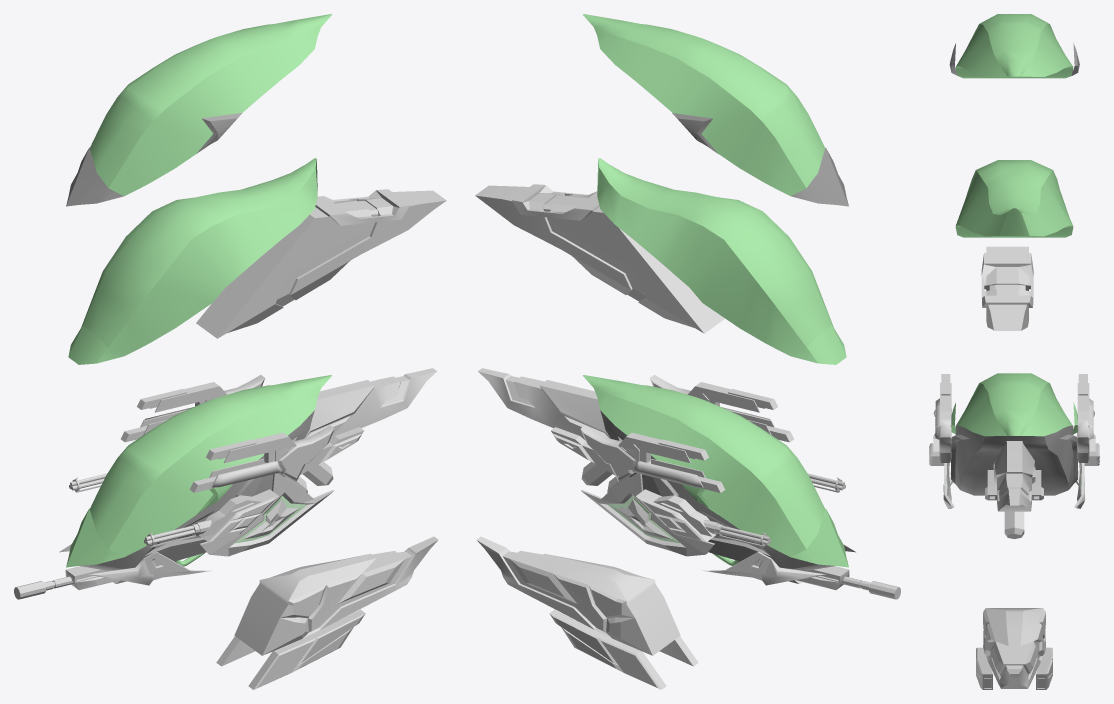
File: Player_all Guns.fbx
The picture shows the model from 3 angles, left to right: view 1: azimuth 30°, elevation 25°; view 2: azimuth 150°, elevation 25°; view 3: azimuth 270°, elevation 25°; orthographic projection.
Parts seen in each view (by area): view 1: Cabina_A, Cabina_B, polySurface3, Cola_1, Cola_3, Arma_E, Cola_2, Cola_3a, Arma_L, Cuerpo_Base, Medio_1, polySurface4 (+5 smaller); view 2: Cabina_A, Cabina_B, polySurface3, Cola_1, Cola_3, Arma_E, Cola_2, Cola_3a, Arma_L, Cuerpo_Base, Medio_1, polySurface4 (+5 smaller); view 3: Cabina_A, polySurface3, Cabina_B, Cuerpo_Base, Cola_3, Cola_1, Arma_E, Cola_2, Cola_3a, Arma_L, Medio_1, Cola_2a (+2 smaller).
Boxes of the visible parts, bbox=[...] form: Cabina_A: bbox=[68, 158, 317, 364]; Cabina_B: bbox=[66, 375, 331, 567]; polySurface3: bbox=[90, 14, 331, 196]; Cola_1: bbox=[196, 189, 446, 338]; Cola_3: bbox=[234, 536, 438, 655]; Arma_E: bbox=[121, 375, 334, 492]; Cola_2: bbox=[304, 368, 436, 439]; Cola_3a: bbox=[216, 609, 365, 689]; Arma_L: bbox=[69, 473, 278, 547]; Cuerpo_Base: bbox=[80, 410, 314, 570]; Medio_1: bbox=[209, 473, 334, 556]; polySurface4: bbox=[66, 113, 242, 206]; Cabina_A: bbox=[597, 158, 846, 364]; Cabina_B: bbox=[583, 375, 848, 567]; polySurface3: bbox=[583, 14, 825, 196]; Cola_1: bbox=[475, 184, 724, 333]; Cola_3: bbox=[476, 536, 680, 655]; Arma_E: bbox=[580, 374, 793, 492]; Cola_2: bbox=[478, 368, 610, 439]; Cola_3a: bbox=[549, 609, 698, 689]; Arma_L: bbox=[636, 473, 845, 547]; Cuerpo_Base: bbox=[600, 410, 834, 570]; Medio_1: bbox=[581, 473, 704, 556]; polySurface4: bbox=[672, 113, 848, 206]; Cabina_A: bbox=[955, 160, 1073, 237]; polySurface3: bbox=[955, 14, 1073, 78]; Cabina_B: bbox=[951, 373, 1077, 436]; Cuerpo_Base: bbox=[950, 425, 1078, 495]; Cola_3: bbox=[983, 608, 1045, 688]; Cola_1: bbox=[981, 246, 1033, 330]; Arma_E: bbox=[935, 374, 1093, 462]; Cola_2: bbox=[993, 441, 1035, 511]; Cola_3a: bbox=[976, 647, 1052, 689]; Arma_L: bbox=[929, 409, 1099, 465]; Medio_1: bbox=[943, 463, 1085, 508]; Cola_2a: bbox=[985, 470, 1043, 500].
Bounding box in the file's own units: 575 × 836 × 204.
